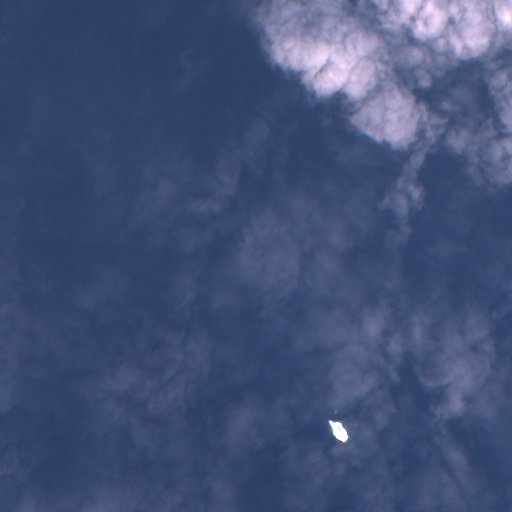Iceberg: (329, 420, 348, 442), (335, 411, 336, 412)
